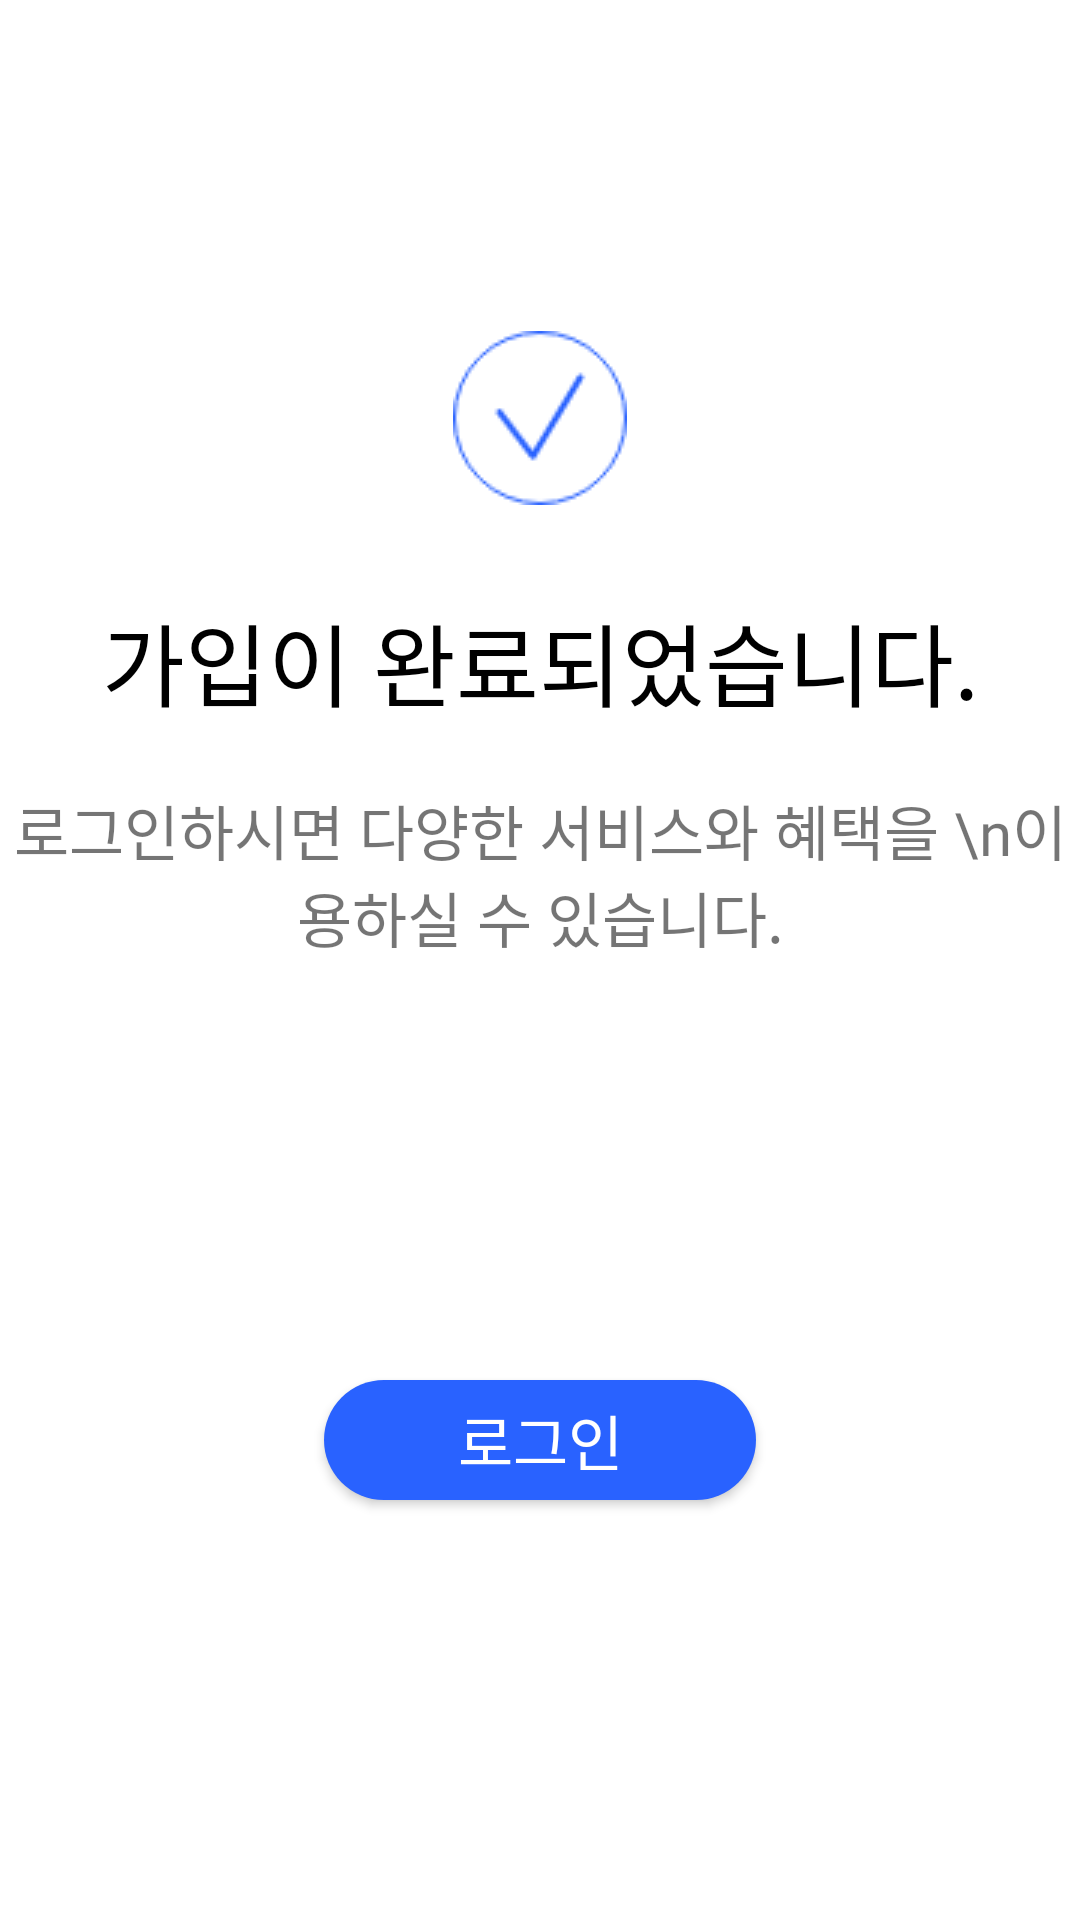

Icon bounding boxes for this 1080w x 1920h phone screenshot, format {"left": x1, "top": y1, "right": x2, "bottom": y2}:
signup complete: {"left": 453, "top": 331, "right": 627, "bottom": 505}
